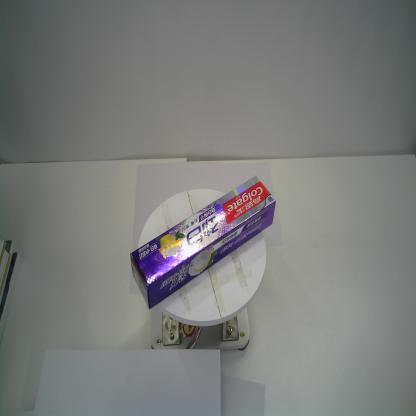Personal Hygiene: (124, 174, 276, 309)
